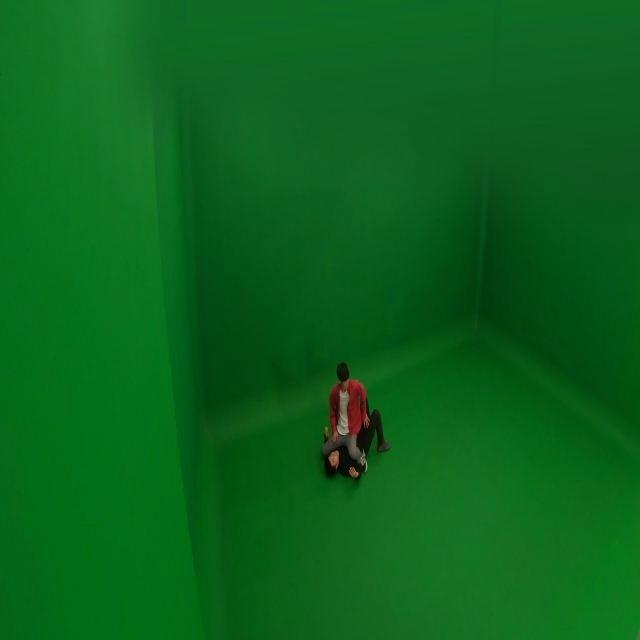fight: (321, 362, 389, 479)
